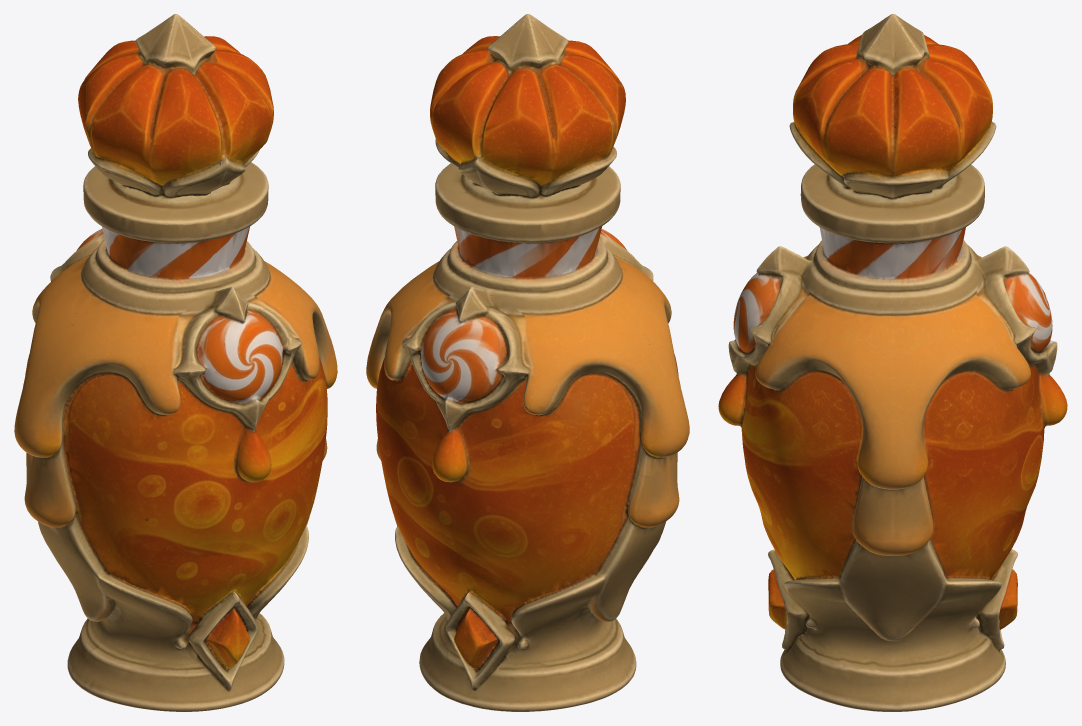
The model's file is Meshy_AI_Syrup_Capsule.glb.
The picture shows the model from 3 angles, left to right: view 1: azimuth 30°, elevation 25°; view 2: azimuth 150°, elevation 25°; view 3: azimuth 270°, elevation 25°; orthographic projection.
Visible parts, largest first — view 1: Mesh_0; view 2: Mesh_0; view 3: Mesh_0.
Boxes of the visible parts, x1=… form: Mesh_0: x1=14, y1=14, x2=337, y2=711; Mesh_0: x1=366, y1=14, x2=689, y2=711; Mesh_0: x1=718, y1=14, x2=1067, y2=711.
Bounding box in the file's own units: 0.949 × 1.9 × 0.9208.
Materials: 1 (1 with a texture image).
